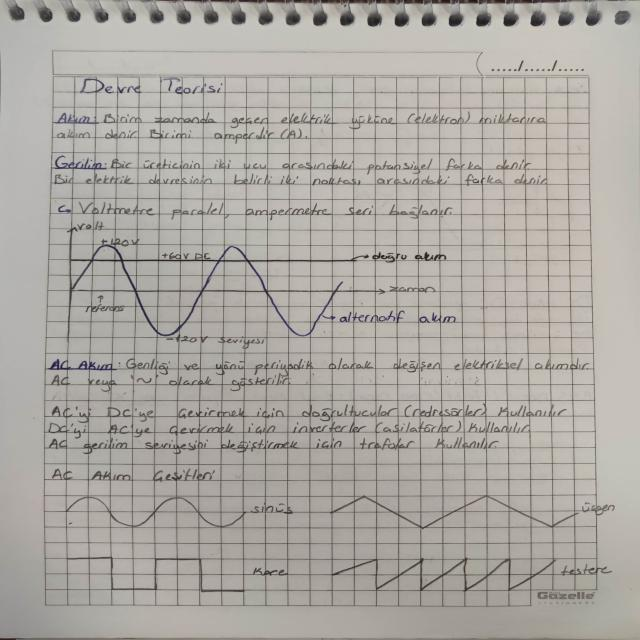image: (53, 222, 457, 356), (322, 552, 621, 596), (325, 494, 618, 534), (55, 552, 295, 598), (60, 492, 304, 533)
text: (44, 398, 572, 452), (49, 152, 554, 188), (46, 356, 594, 388), (53, 109, 556, 142), (51, 197, 463, 221), (45, 464, 220, 484), (77, 76, 225, 99)
